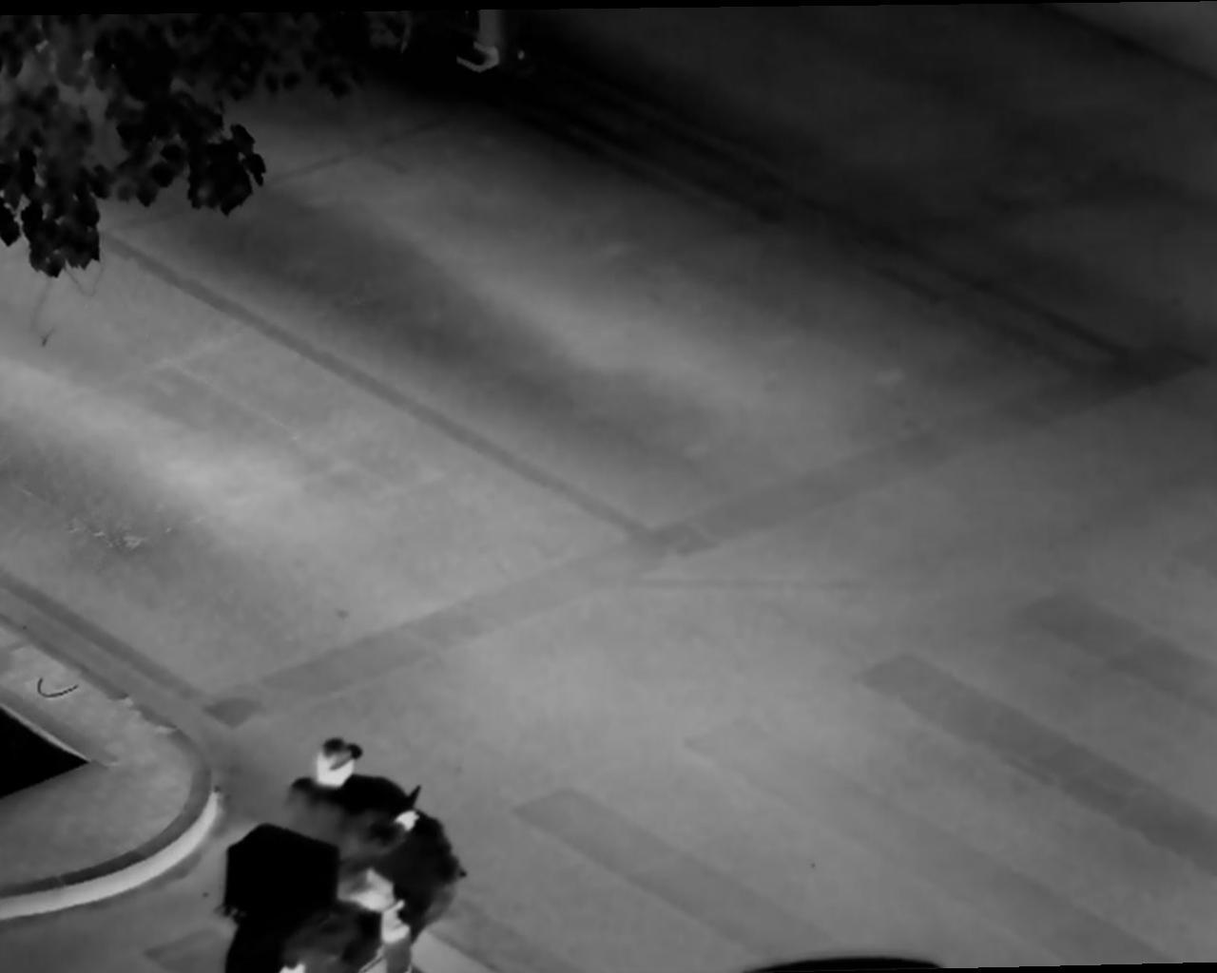person: (278, 731, 412, 973)
